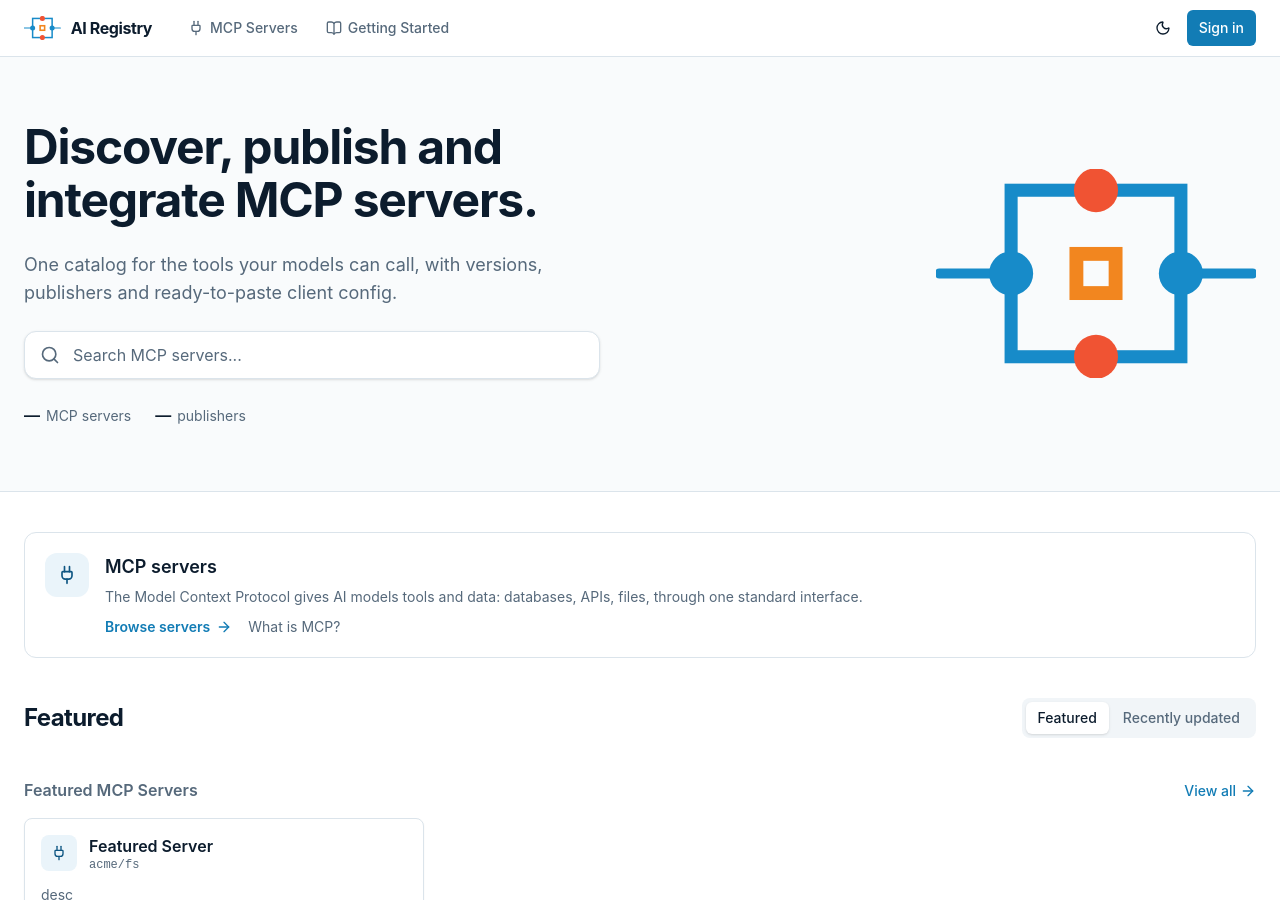
Test case: HomePage listings › switches to recently updated entries on toggle
Expected: the link "Featured Server" is shown, x1=89 y1=836 x2=213 y2=856
Step 1. Click the button "Recently updated" → [1181, 718], box x1=1111 y1=702 x2=1252 y2=734
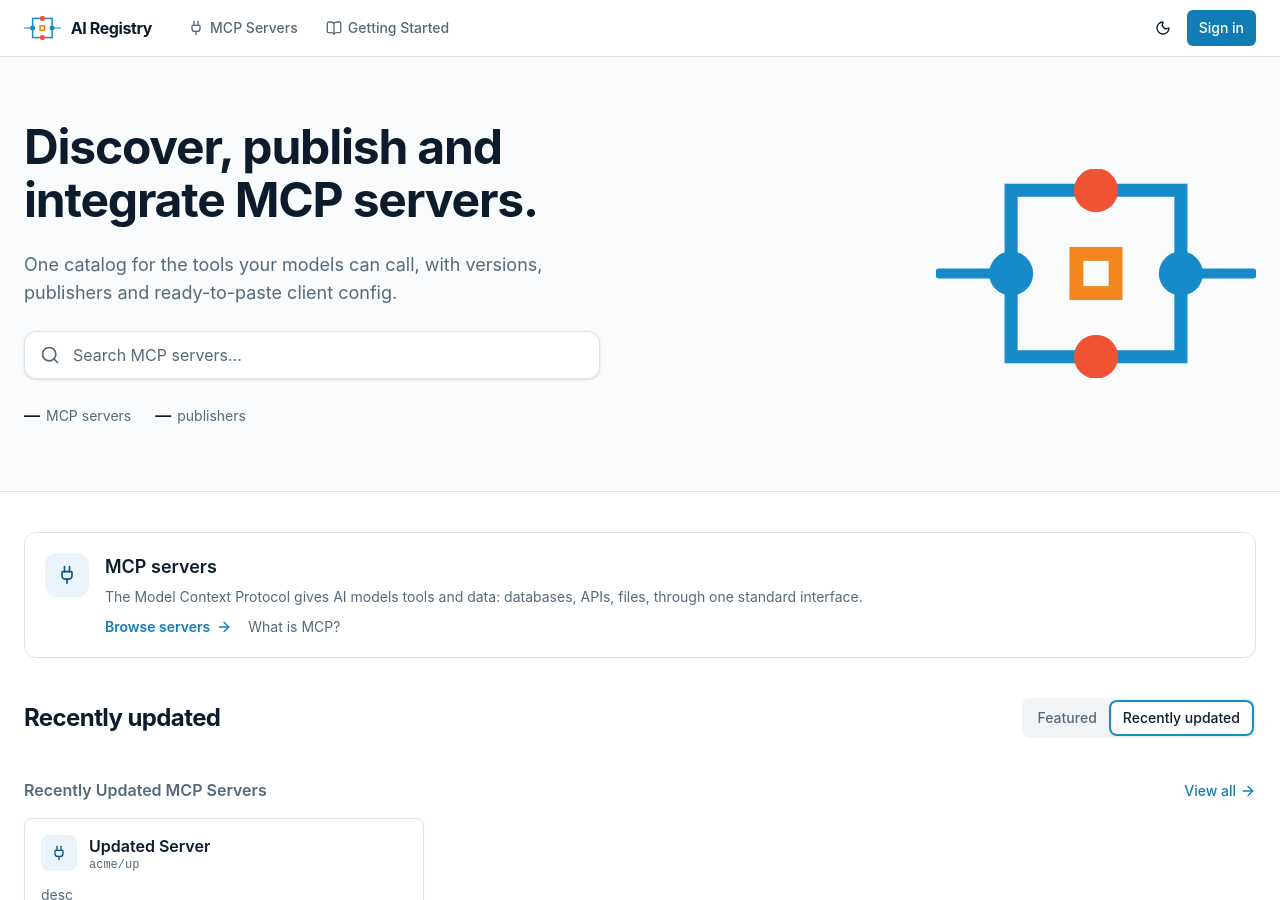
Expected: the link "Updated Server" is shown, x1=89 y1=836 x2=210 y2=856
Expected: the heading "Recently Updated MCP Servers" is shown, x1=24 y1=778 x2=267 y2=802
Expected: the link "Featured Server" is gone
Step 2. Click the button "Featured" → [1067, 718], box x1=1026 y1=702 x2=1109 y2=734
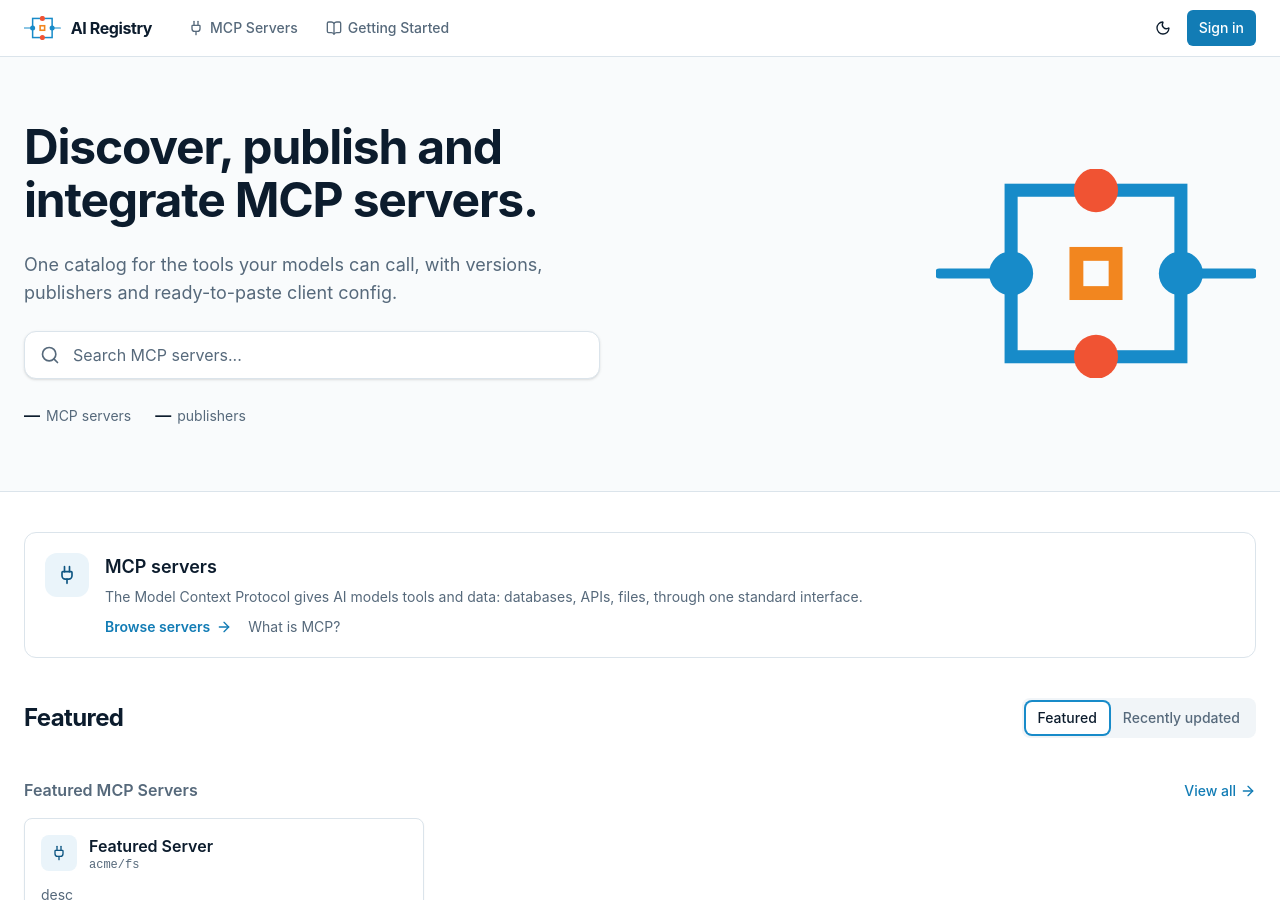
Expected: the link "Featured Server" is shown, x1=89 y1=836 x2=213 y2=856
